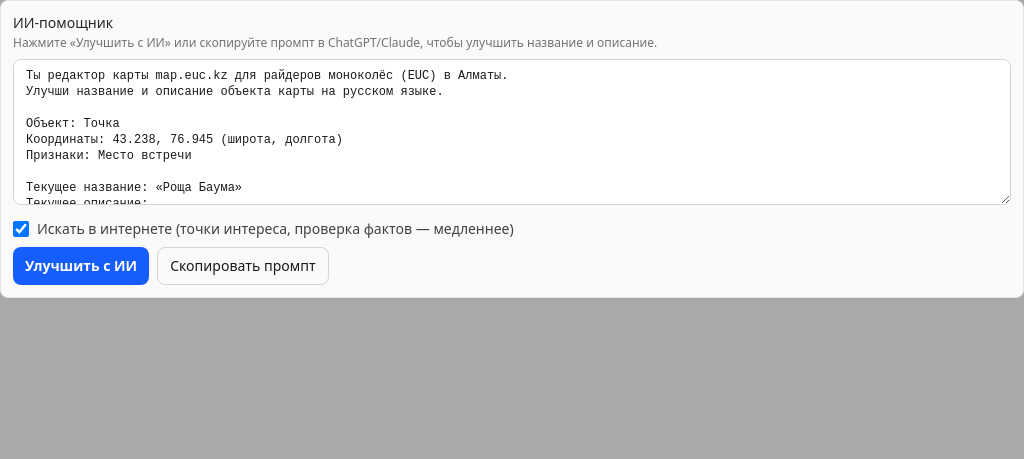
Test: AiAssistPanel › чекбокс «Искать в интернете» выключен → промпт без POI и improveWithAi с webSearch=false
Click the checkbox labelled "Искать в интернете": click(21, 229) top-left (13, 221), bottom-right (29, 237)
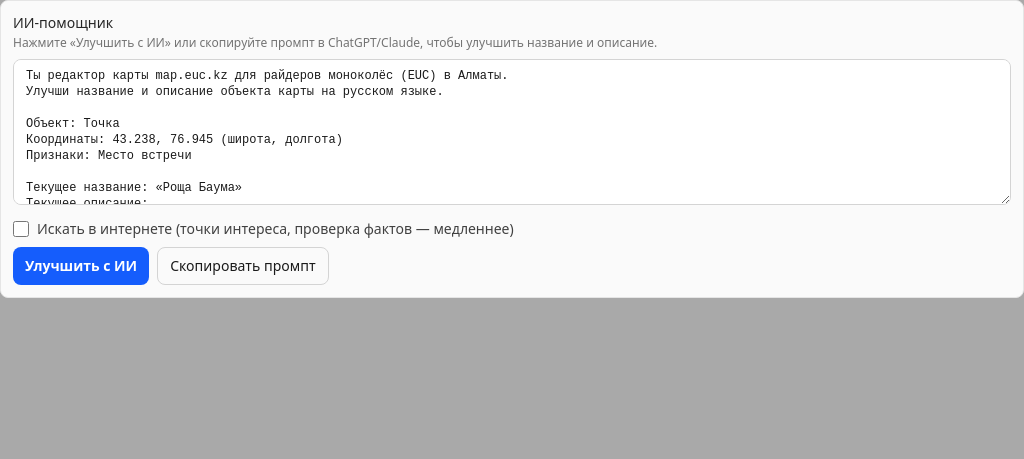
Click the button "Улучшить с ИИ": click(81, 266) top-left (13, 247), bottom-right (149, 285)
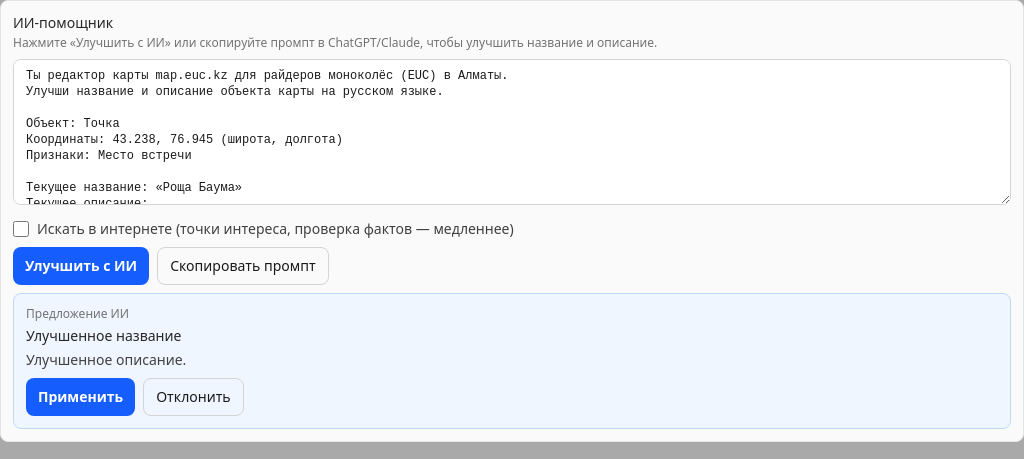
Check: the text "Улучшенное название" is shown, box top-left (26, 326), bottom-right (181, 345)
